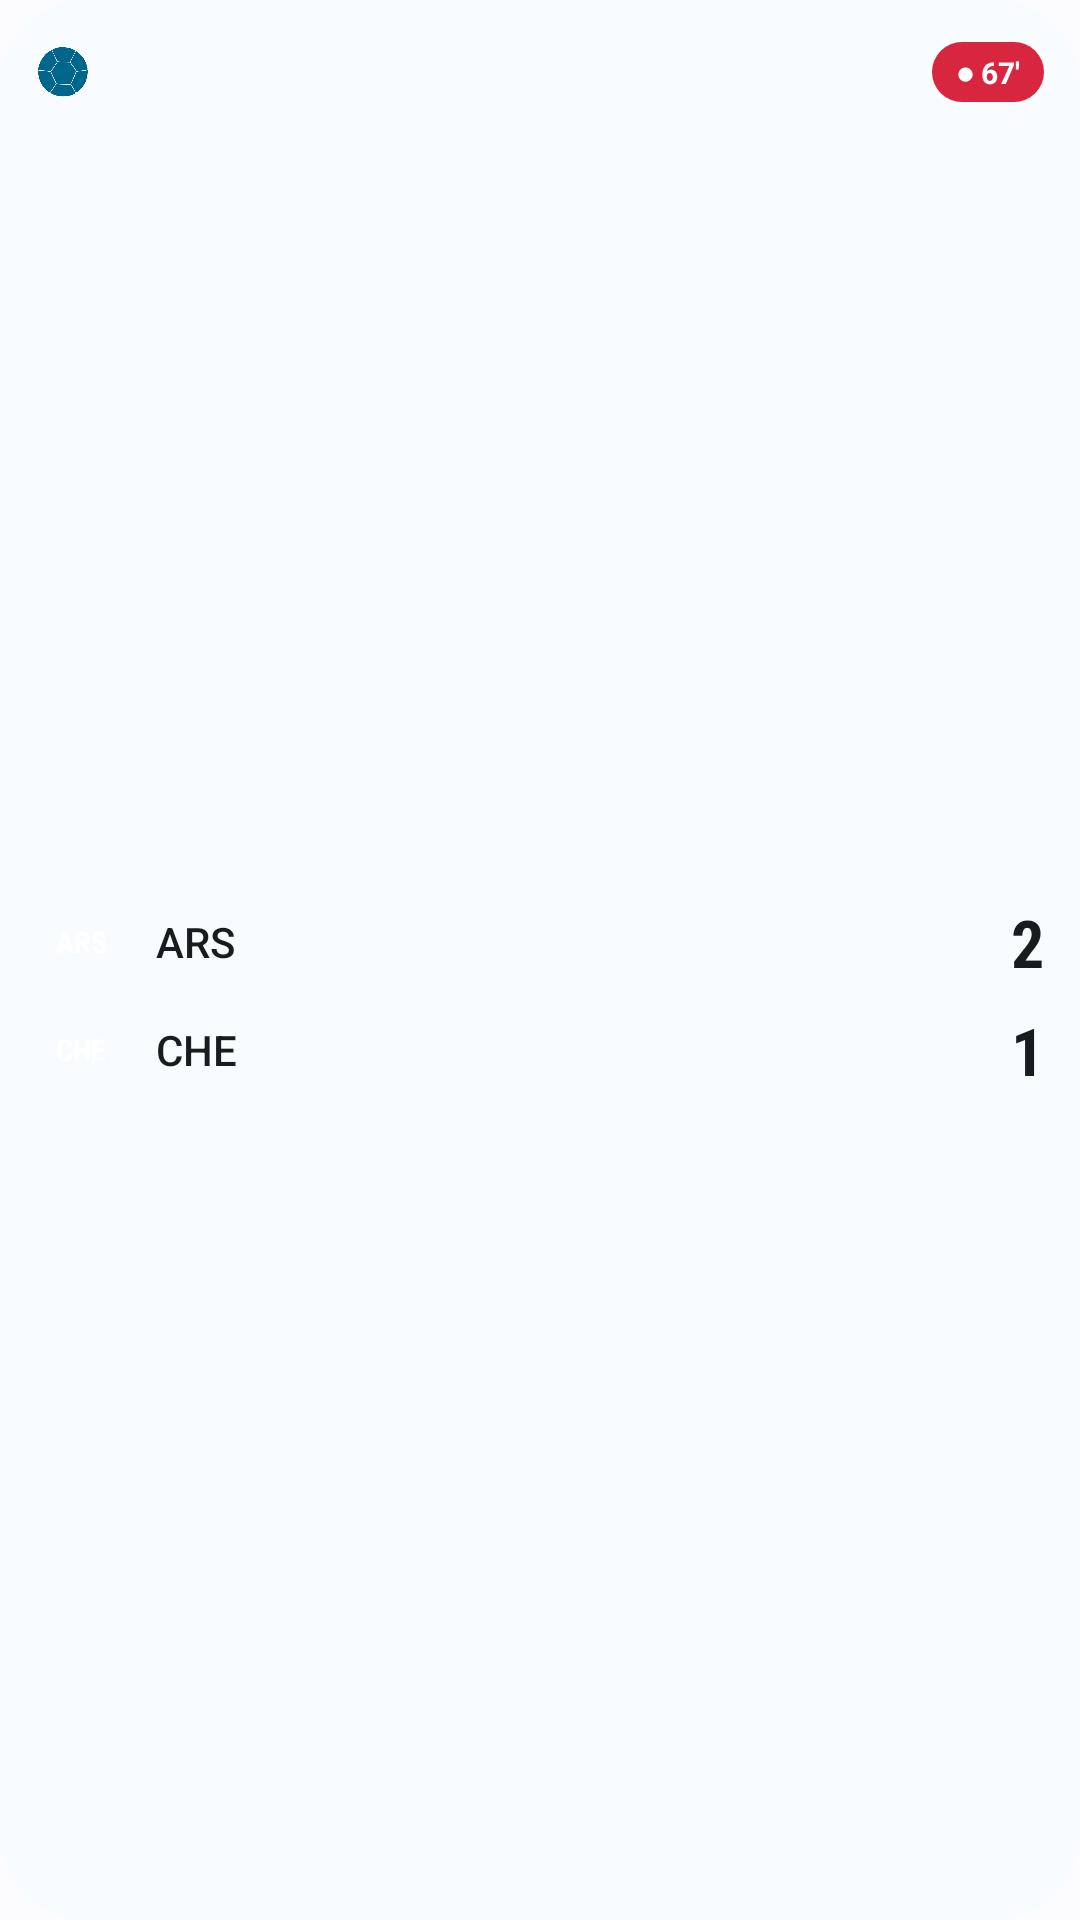

Named icons in this screenshot (1080w x 1920h) and their centers, [x,y]:
sport soccer: [63,72]
